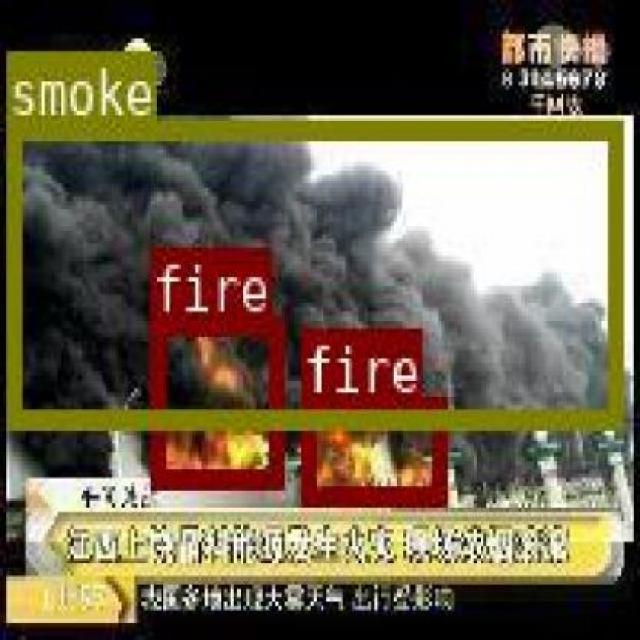Fire: (149, 312, 280, 486), (298, 394, 444, 503)
Smoke: (6, 115, 620, 423)
